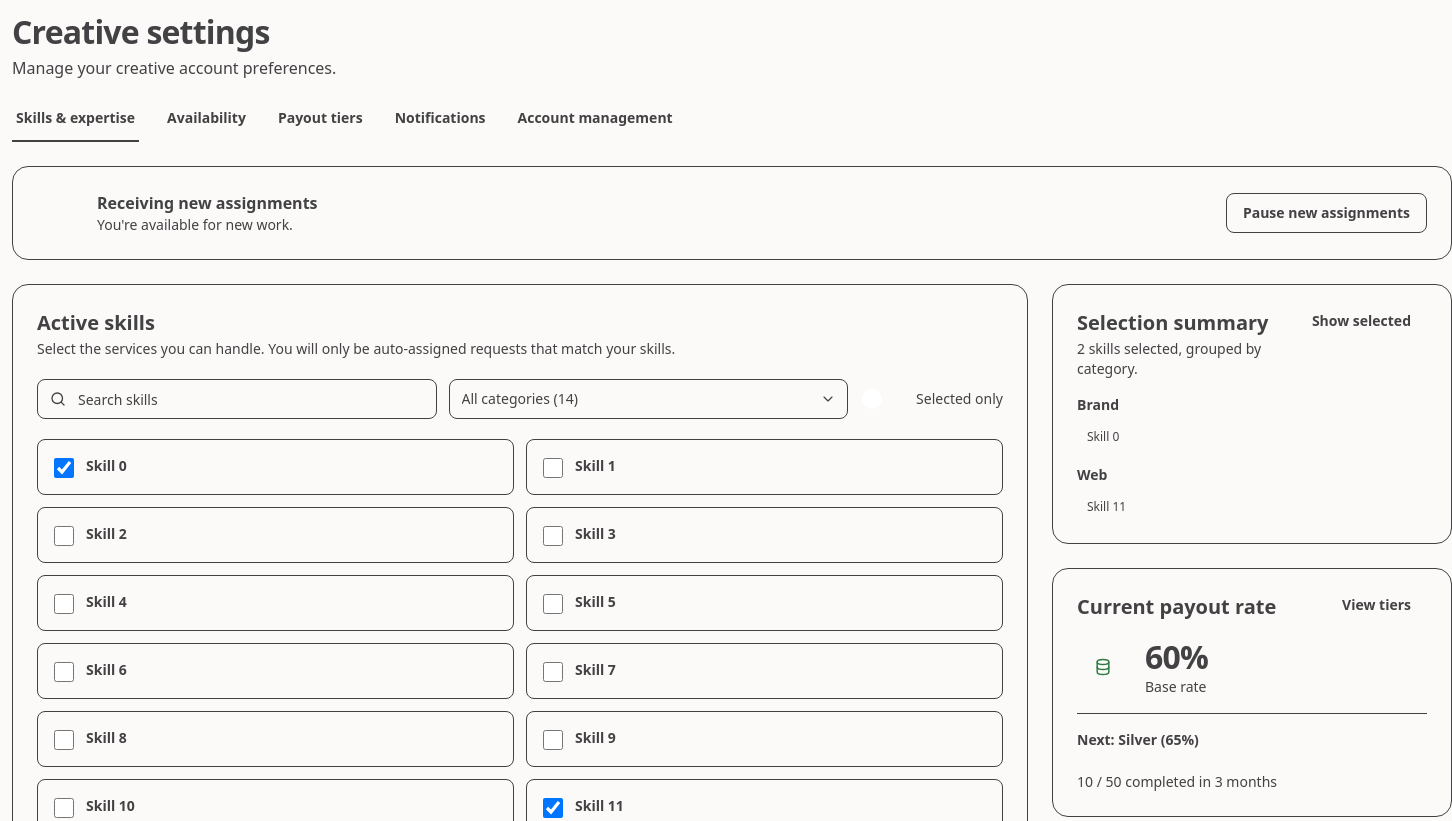
Test: Creative settings: skills › says when a filter hides selected skills, and keeps them selected
This screenshot has width=1452, height=821.
expect the checkbox labelled "Skill 0" is shown: met, box [54,458,74,478]
Select "Brand (10)" in the dropdown named "Skill category" at (648,399), box [448,379,848,419]
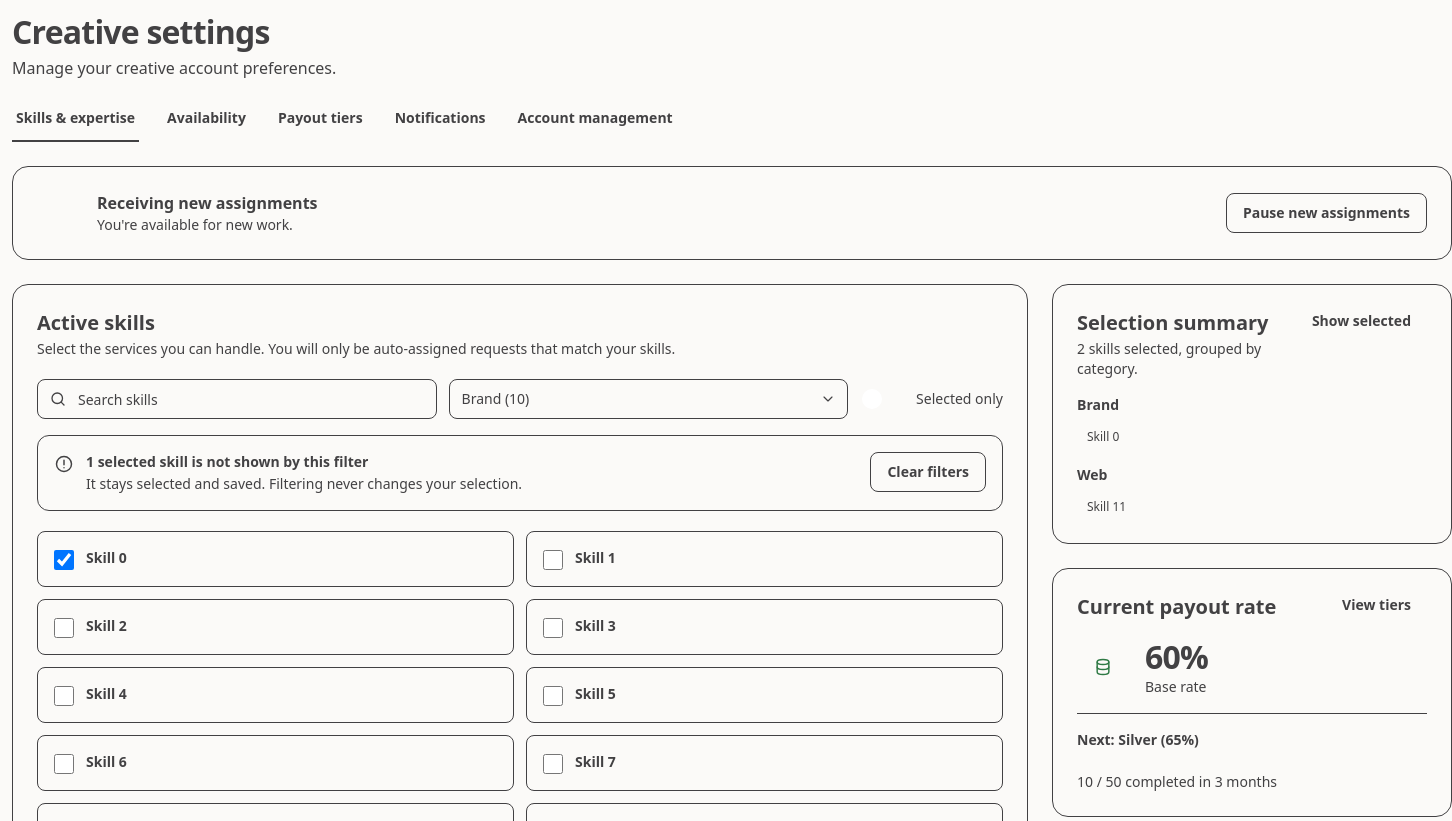
expect the text "1 selected skill is not shown by this filter" is shown: met, box [86,452,368,471]
Click the button "Clear filters".
click(928, 472)  # box [870,452,986,492]
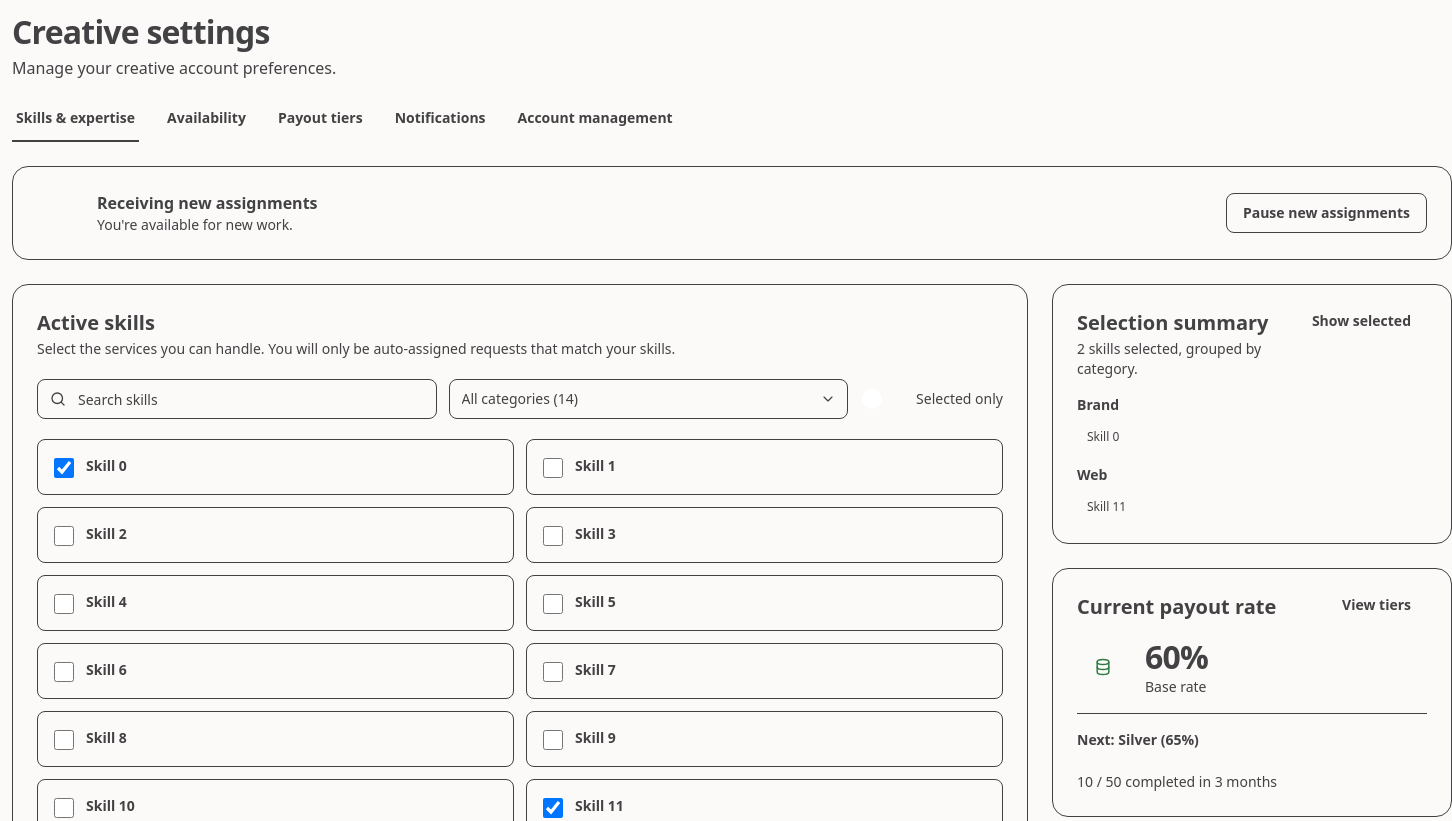
expect the text "not shown by this filter" is gone: met
